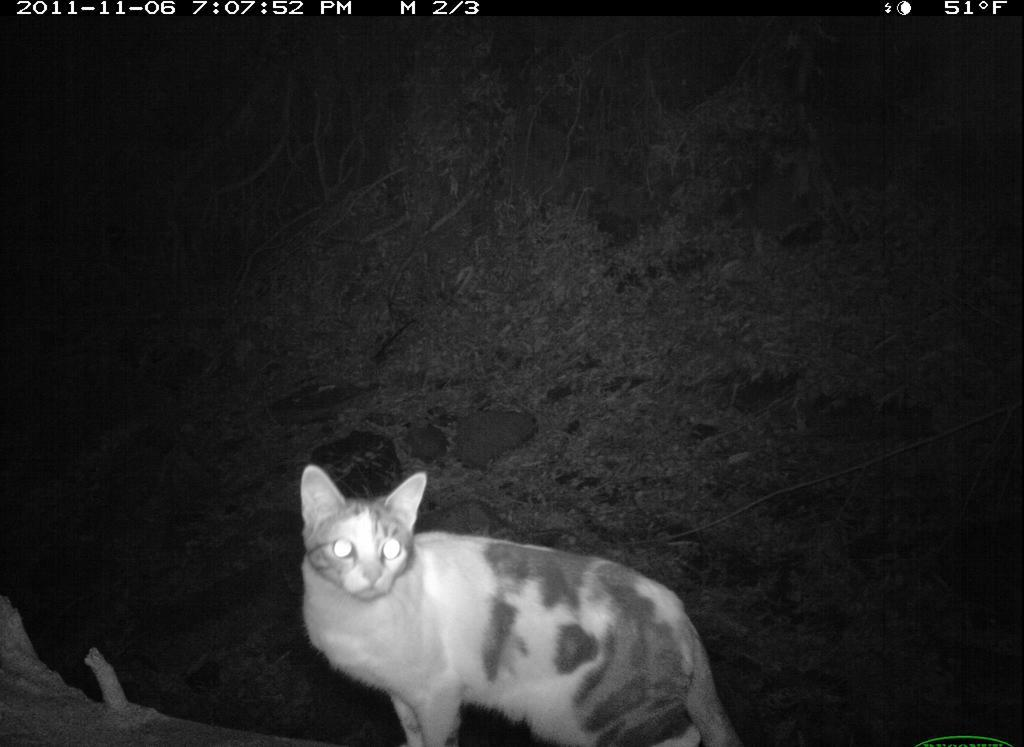cat: (295, 464, 738, 739)
